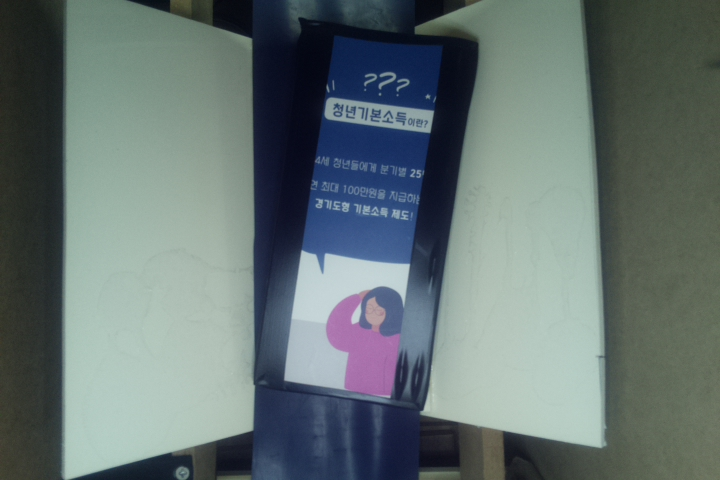book: (252, 19, 482, 412)
